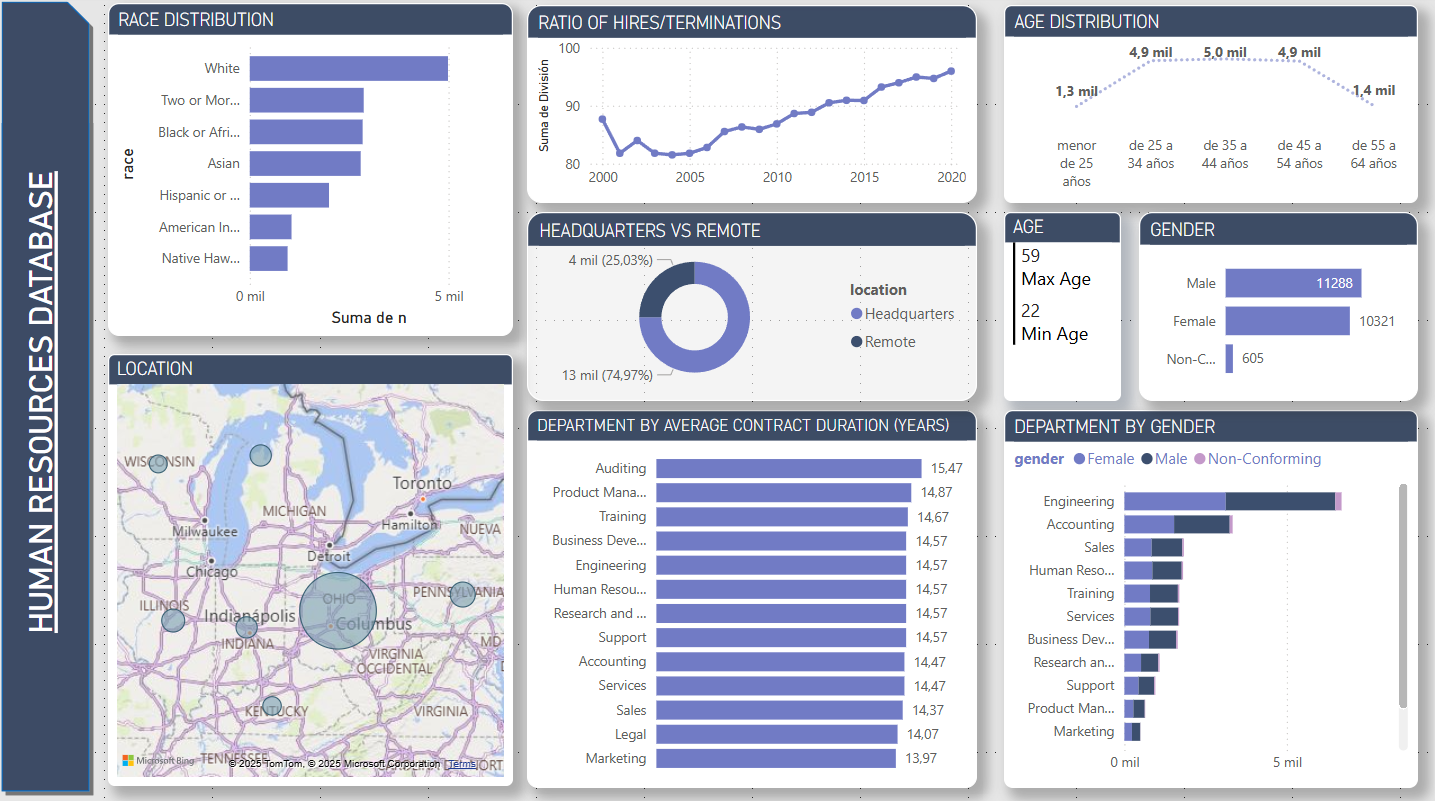

The dashboard page shown, as its layout file describes it:
{"tool":"powerbi","page":{"name":"Página 1","canvas":[1280,720],"ordinal":0},"visuals":[{"type":"areaChart","title":"AGE DISTRIBUTION","fields":{"Category":["age_cat.age_cat"],"Y":["Sum(age_cat.COUNT(*))"]},"box":[896,8,368,176],"z":0},{"type":"shape","box":[0,0,88,712],"z":1000},{"type":"multiRowCard","title":"AGE","fields":{"Values":["Sum(age_max_min.age_max)","Sum(age_max_min.age_min)"]},"box":[896,192,104,168],"z":2000},{"type":"barChart","title":"DEPARTMENT BY GENDER","fields":{"Category":["department_gender.department"],"Series":["department_gender.gender"],"Y":["Sum(department_gender.n)"]},"box":[896,368,368,336],"z":3000},{"type":"barChart","title":"RACE DISTRIBUTION","fields":{"Category":["Race_Distribution.race"],"Y":["Sum(Race_Distribution.n)"]},"box":[99.6,6.2,360,296],"z":4000},{"type":"lineChart","title":"RATIO OF HIRES/TERMINATIONS","fields":{"Category":["terminations_year.year"],"Y":["Sum(terminations_year.División)"]},"box":[472,8,400,176],"z":5000},{"type":"map","title":"LOCATION","fields":{"Size":["Avg(location_state.n)"],"Category":["location_state.location_state"]},"box":[99.6,318.2,360,384],"z":6000},{"type":"barChart","title":"DEPARTMENT BY AVERAGE CONTRACT DURATION (YEARS)","fields":{"Category":["years_working_department.department"],"Y":["Avg(years_working_department.Personalizado)"]},"box":[472,368,400,336],"z":7000},{"type":"donutChart","title":"HEADQUARTERS VS REMOTE","fields":{"Category":["location.location"],"Y":["Sum(location.COUNT(*))"]},"box":[472,192,400,168],"z":8000},{"type":"clusteredBarChart","title":"GENDER","fields":{"Category":["department_gender.gender"],"Y":["Sum(department_gender.n)"]},"box":[1016,192,248,168],"z":9000}]}

Visuals, with their boxes in screenshot pixels (x1, y1, x2, y2), scaled from the page's 1280x720 canvas onto the 1435x801 screenshot:
"AGE DISTRIBUTION" areaChart: (1004, 9, 1417, 205)
shape: (0, 0, 99, 792)
"AGE" multiRowCard: (1004, 214, 1121, 400)
"DEPARTMENT BY GENDER" barChart: (1004, 409, 1417, 783)
"RACE DISTRIBUTION" barChart: (112, 7, 515, 336)
"RATIO OF HIRES/TERMINATIONS" lineChart: (529, 9, 978, 205)
"LOCATION" map: (112, 354, 515, 781)
"DEPARTMENT BY AVERAGE CONTRACT DURATION (YEARS)" barChart: (529, 409, 978, 783)
"HEADQUARTERS VS REMOTE" donutChart: (529, 214, 978, 400)
"GENDER" clusteredBarChart: (1139, 214, 1417, 400)
